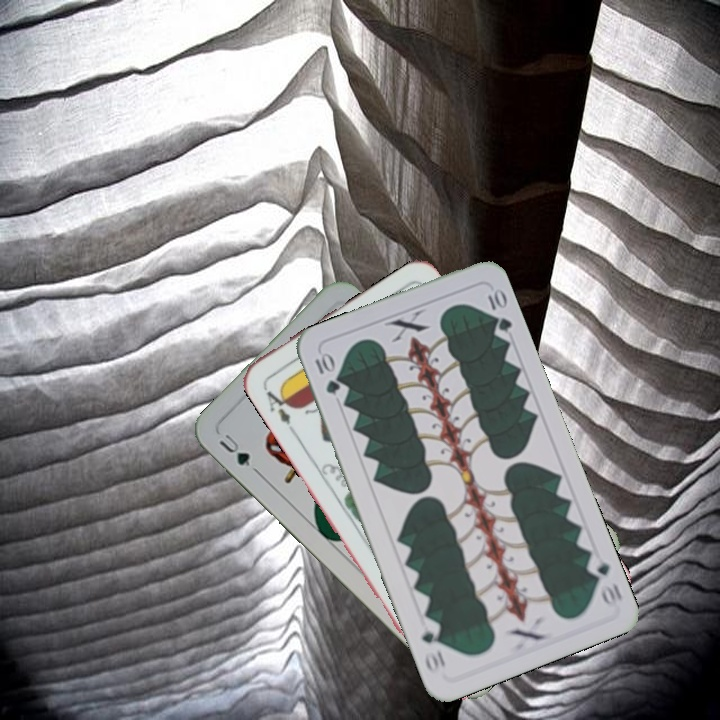EA: (259, 382, 296, 427)
G10: (583, 551, 625, 611), (311, 349, 343, 397)
GU: (215, 429, 254, 470)
